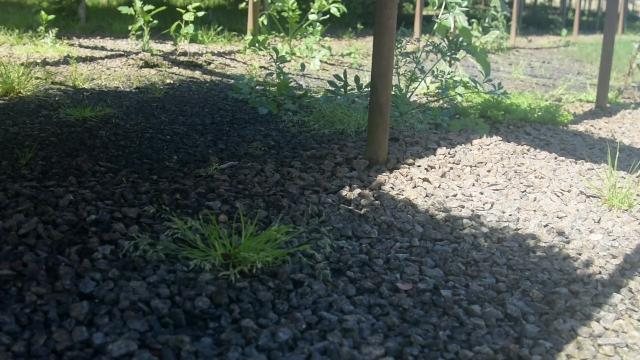MalezaMontesDelPlata: (125, 207, 325, 280), (390, 0, 493, 128), (443, 79, 579, 130), (247, 0, 348, 68), (224, 44, 306, 120), (579, 140, 640, 219), (303, 70, 370, 135), (114, 0, 167, 57), (0, 51, 60, 101), (165, 0, 211, 63), (0, 10, 67, 46), (475, 0, 516, 55), (50, 97, 114, 126), (64, 51, 110, 90), (124, 70, 172, 98), (7, 131, 41, 170)
